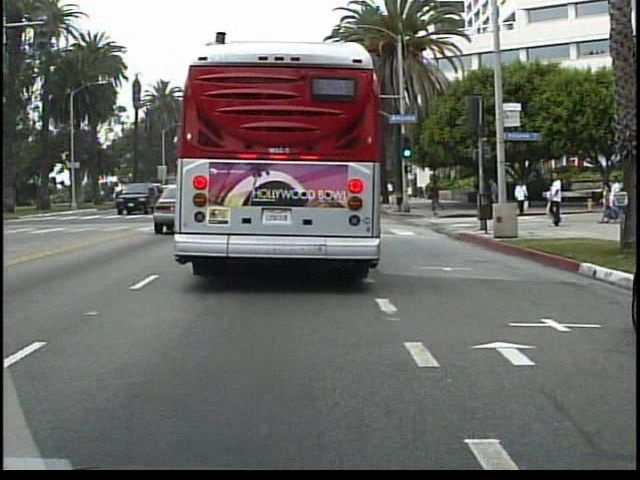person: (547, 169, 568, 227), (486, 175, 503, 215), (429, 177, 445, 217), (518, 178, 531, 215)
